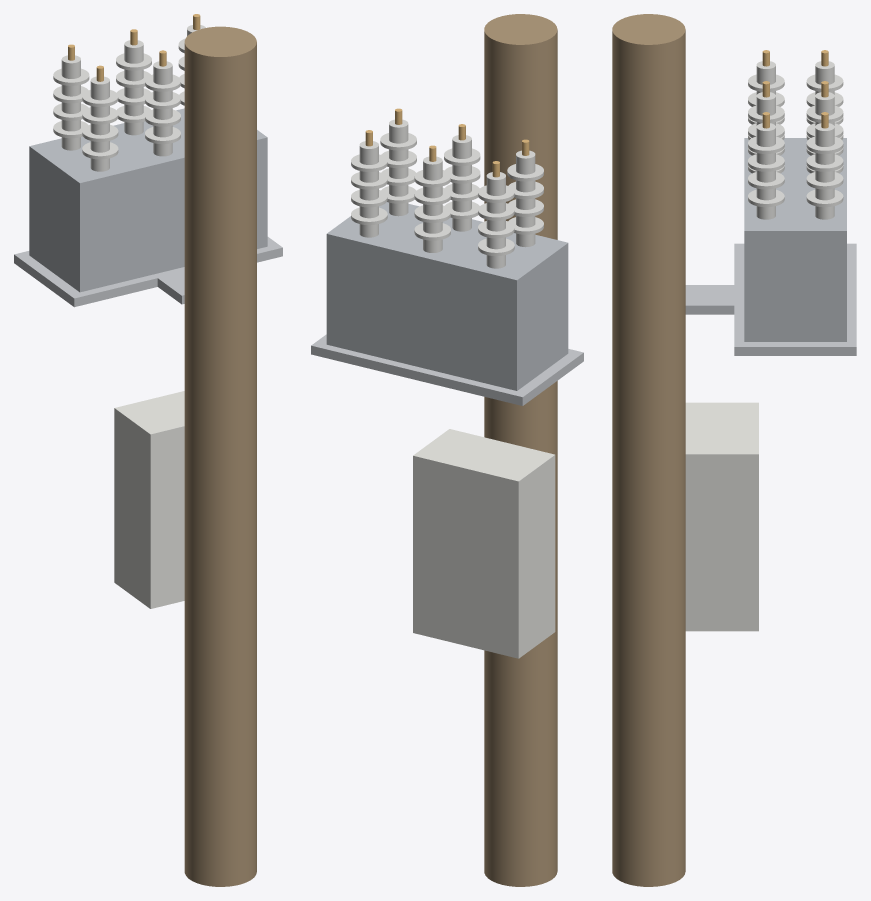
The model's file is recloser.glb.
3 renders of one model, left to right at view 1: azimuth 30°, elevation 25°; view 2: azimuth 150°, elevation 25°; view 3: azimuth 270°, elevation 25°, orthographic.
Visible parts, largest first — view 1: recloser; view 2: recloser; view 3: recloser.
Part boxes in pixels (x1,y1,x2,y2): recloser: (14,14,282,886); recloser: (311,14,583,886); recloser: (612,14,856,886).
Size of the model in its own units: 1 by 3.8 by 1.
